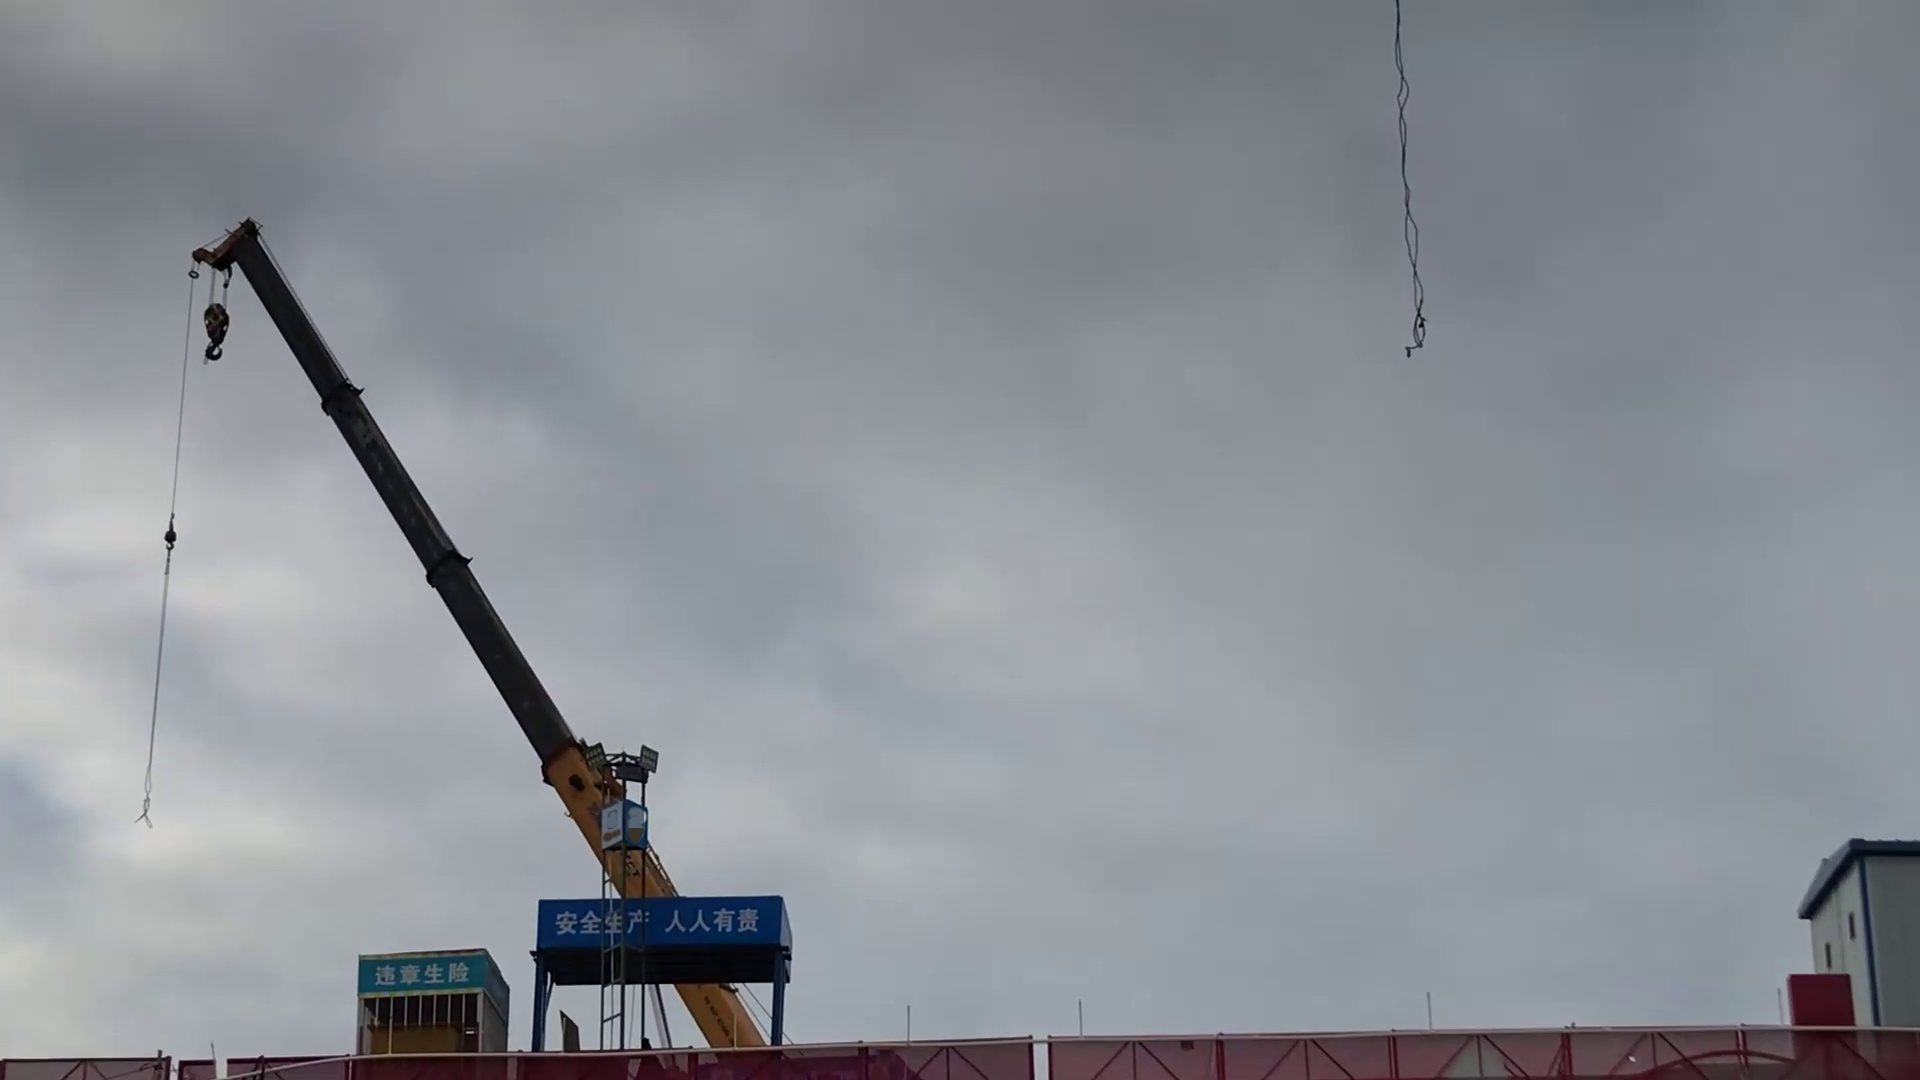fence: (1040, 984, 1920, 1079)
hook: (198, 281, 251, 375)
slogan: (526, 881, 774, 961), (359, 943, 487, 993)
